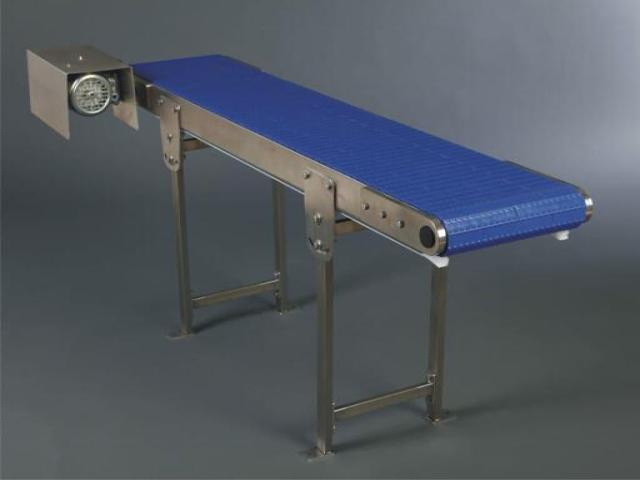conveyor: (80, 45, 603, 290)
